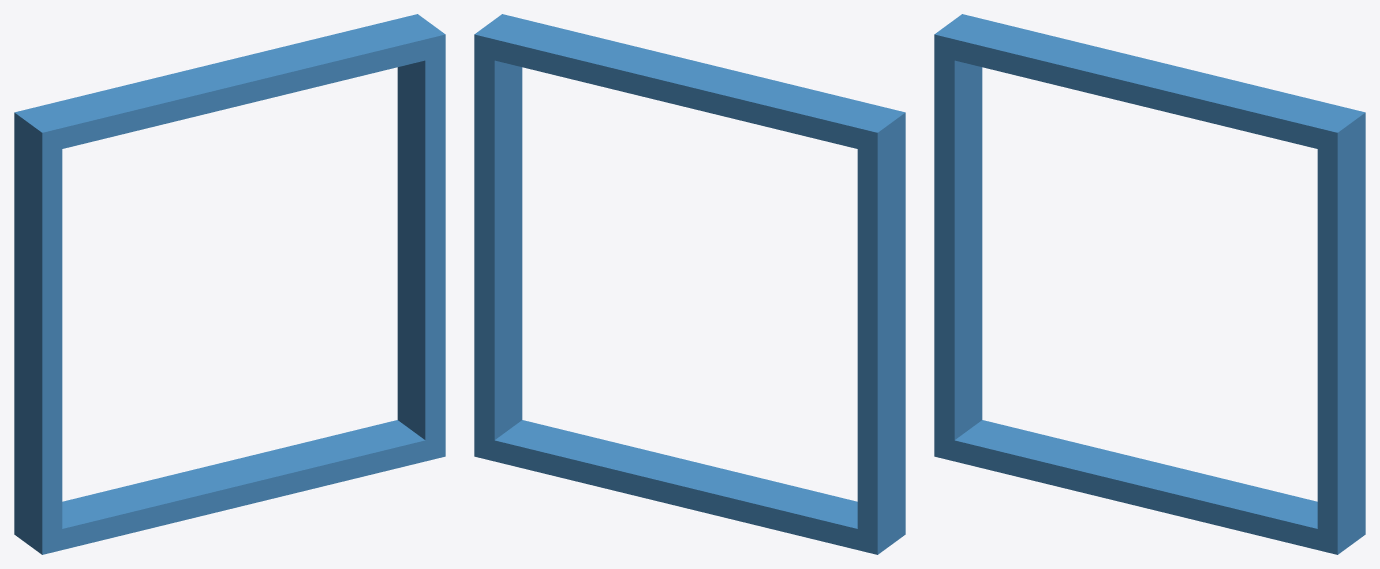
The model's file is Ceiling A.fbx.
3 views of the same model, side by side, from view 1: azimuth 30°, elevation 25°; view 2: azimuth 150°, elevation 25°; view 3: azimuth 330°, elevation 25° (orthographic).
Visible parts, largest first — view 1: meshes[0]; view 2: meshes[0]; view 3: meshes[0].
Part boxes in pixels (left/top/right/bottom): meshes[0]: left=14, top=14, right=445, bottom=554; meshes[0]: left=474, top=14, right=905, bottom=554; meshes[0]: left=934, top=14, right=1365, bottom=554.
Bounding box in the file's own units: 50 × 50 × 6.
